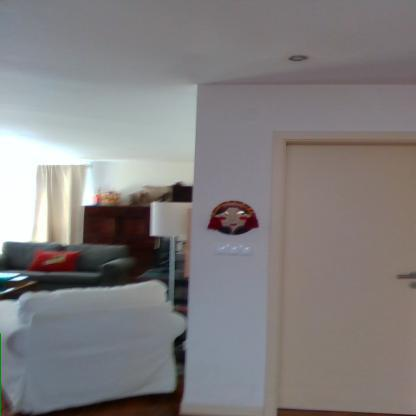door: (282, 146, 415, 415)
lever: (394, 271, 415, 284)
